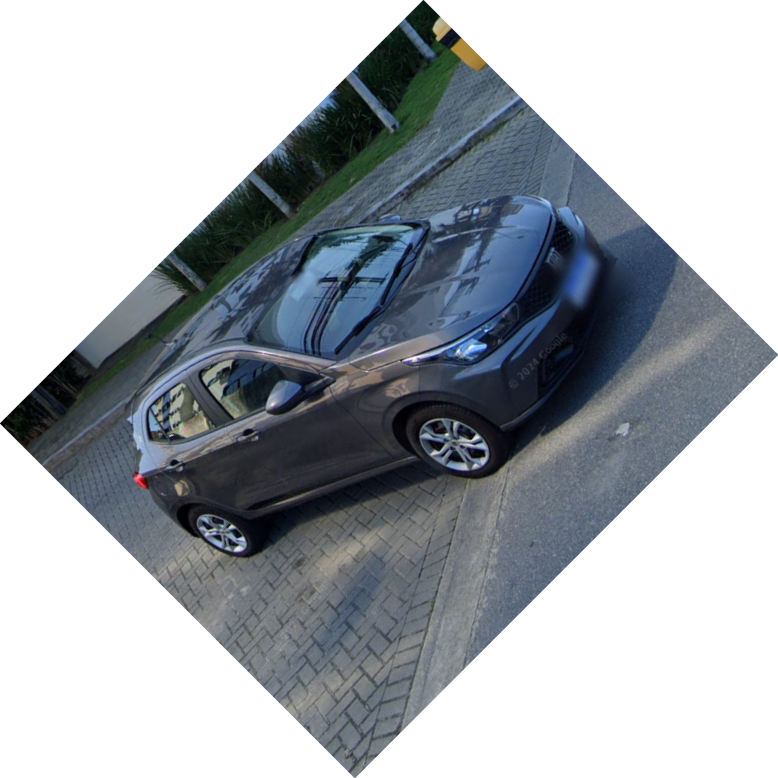car: (117, 187, 616, 562)
